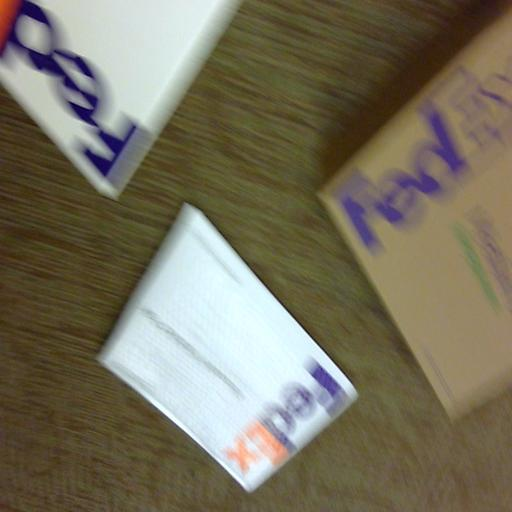Amazon: (335, 0, 512, 407), (112, 214, 351, 504), (0, 0, 238, 198)
